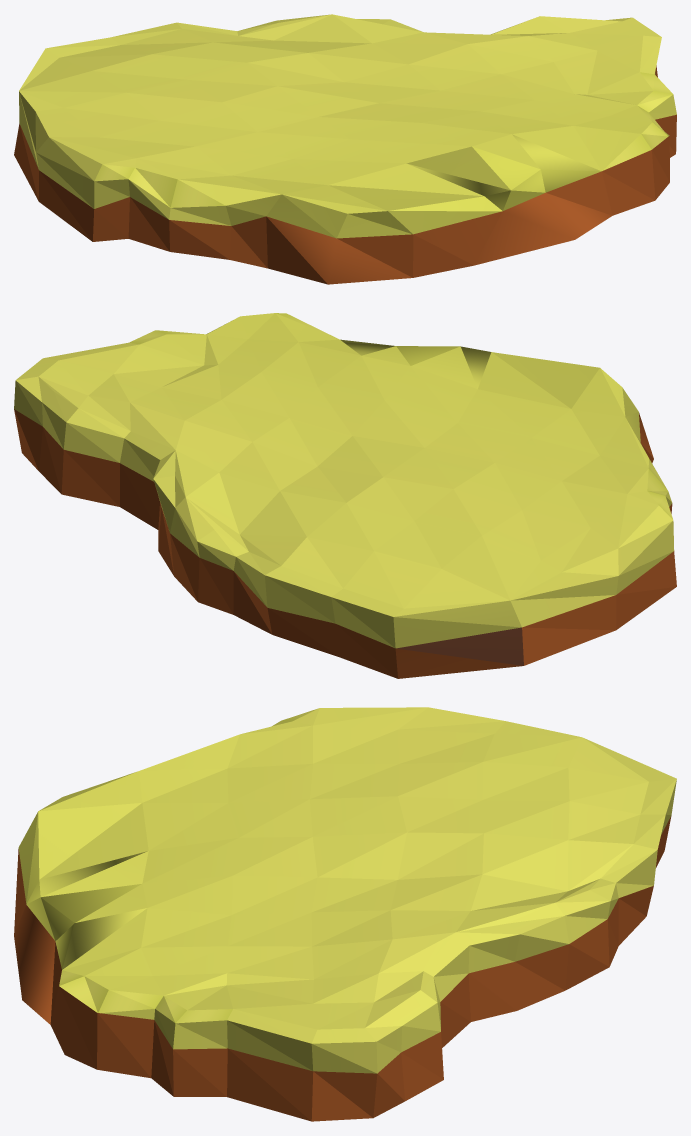
The model's file is country.glb.
3 renders of one model, top to bottom at view 1: azimuth 30°, elevation 25°; view 2: azimuth 150°, elevation 25°; view 3: azimuth 270°, elevation 25°, orthographic. The views are drawn at different scales.
Parts seen in each view (by area): view 1: Country; view 2: Country; view 3: Country.
Part boxes in pixels (<box>): Country: <box>14,14,676,284</box>; Country: <box>14,313,676,678</box>; Country: <box>14,707,676,1121</box>.
Size of the model in its own units: 2.61 by 0.3334 by 2.17.
Materials: 6 (5 with a texture image).
